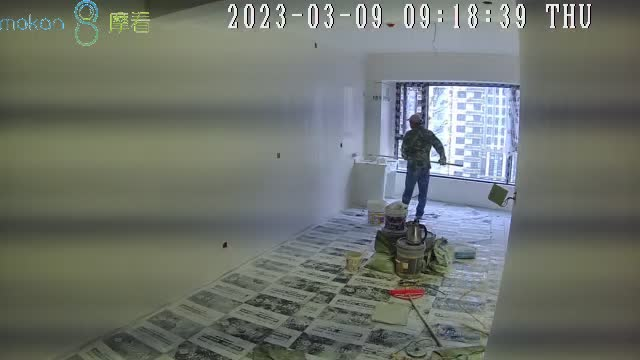people: (402, 112, 447, 220)
window: (396, 82, 519, 183)
